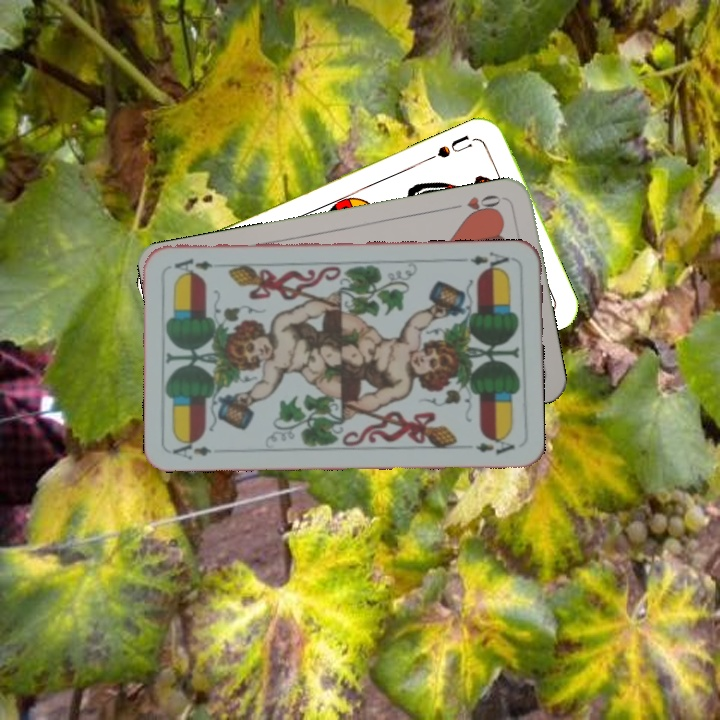EA: (457, 247, 511, 274), (169, 436, 214, 462)
HO: (447, 190, 506, 220)
SU: (424, 131, 480, 163)
